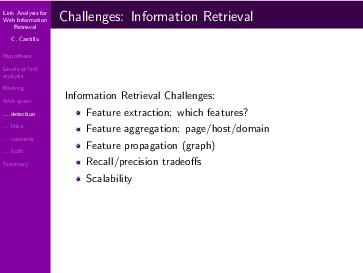paragraph: (59, 80, 295, 209)
title: (59, 1, 267, 37)
